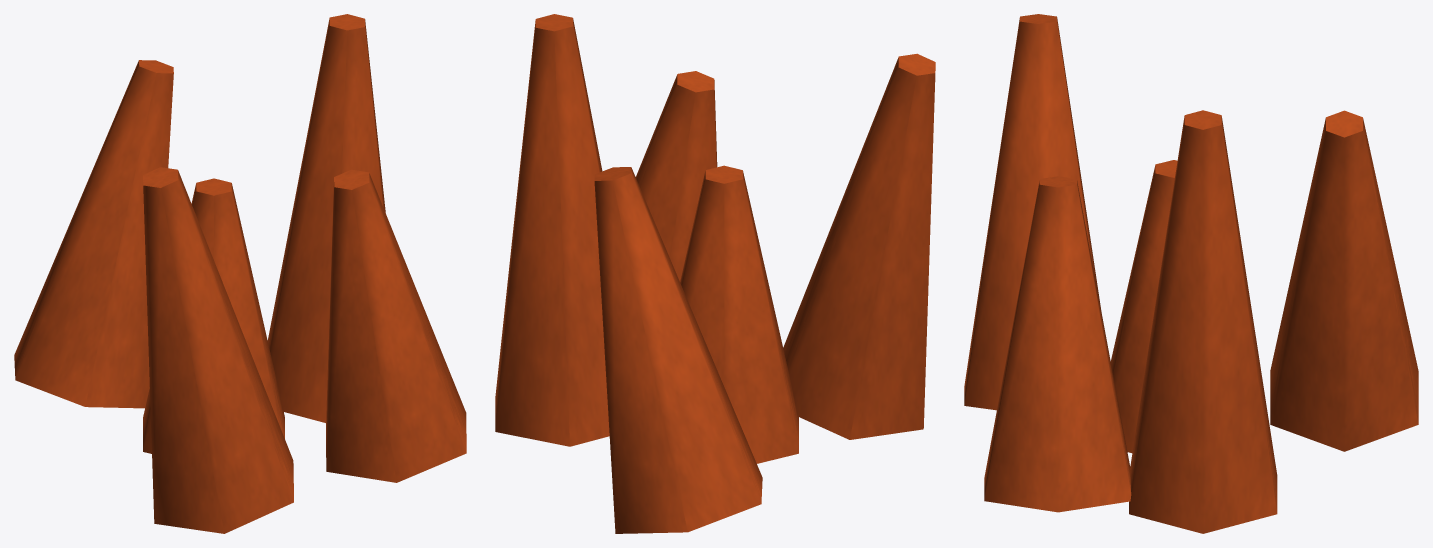
Rendered from item-FireClay.fbx.
3 renders of one model, left to right at view 1: azimuth 30°, elevation 25°; view 2: azimuth 150°, elevation 25°; view 3: azimuth 270°, elevation 25°, orthographic. The views are drawn at different scales.
Visible parts, largest first — view 1: item-FireClay__Geometry; view 2: item-FireClay__Geometry; view 3: item-FireClay__Geometry.
Part boxes in pixels (x1,y1,x2,y2): item-FireClay__Geometry: (14, 14, 466, 533); item-FireClay__Geometry: (495, 14, 935, 533); item-FireClay__Geometry: (964, 14, 1418, 533).
Size of the model in its own units: 0.2866 by 0.3075 by 0.3185.
Materials: 1 (1 with a texture image).
